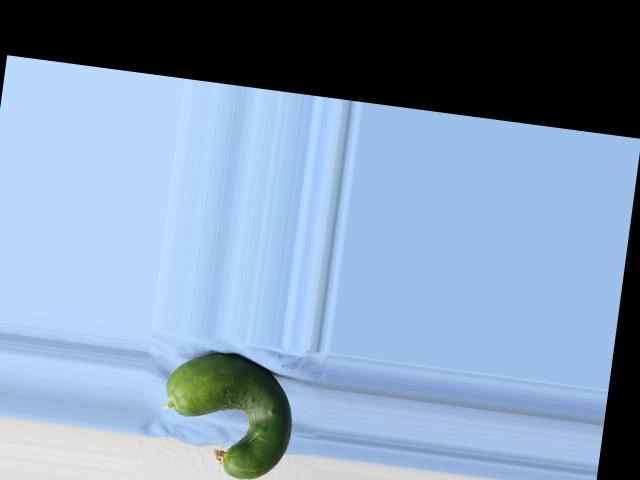cucumber: (155, 346, 300, 480)
